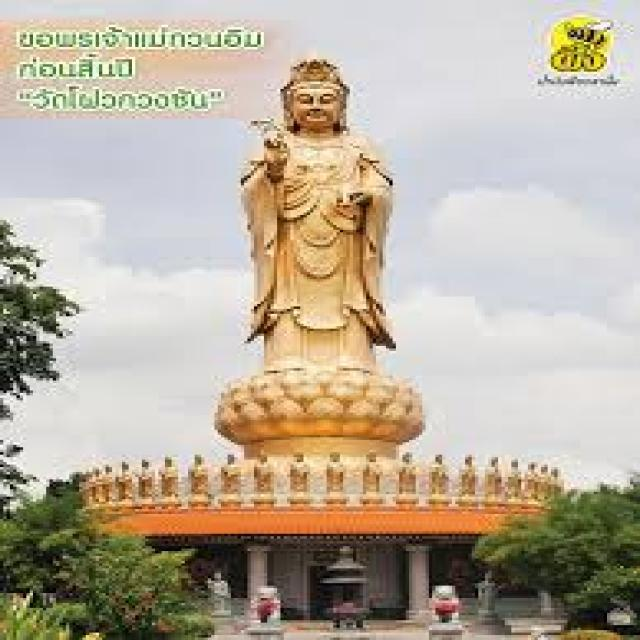Guan Yin: (235, 54, 400, 387)
